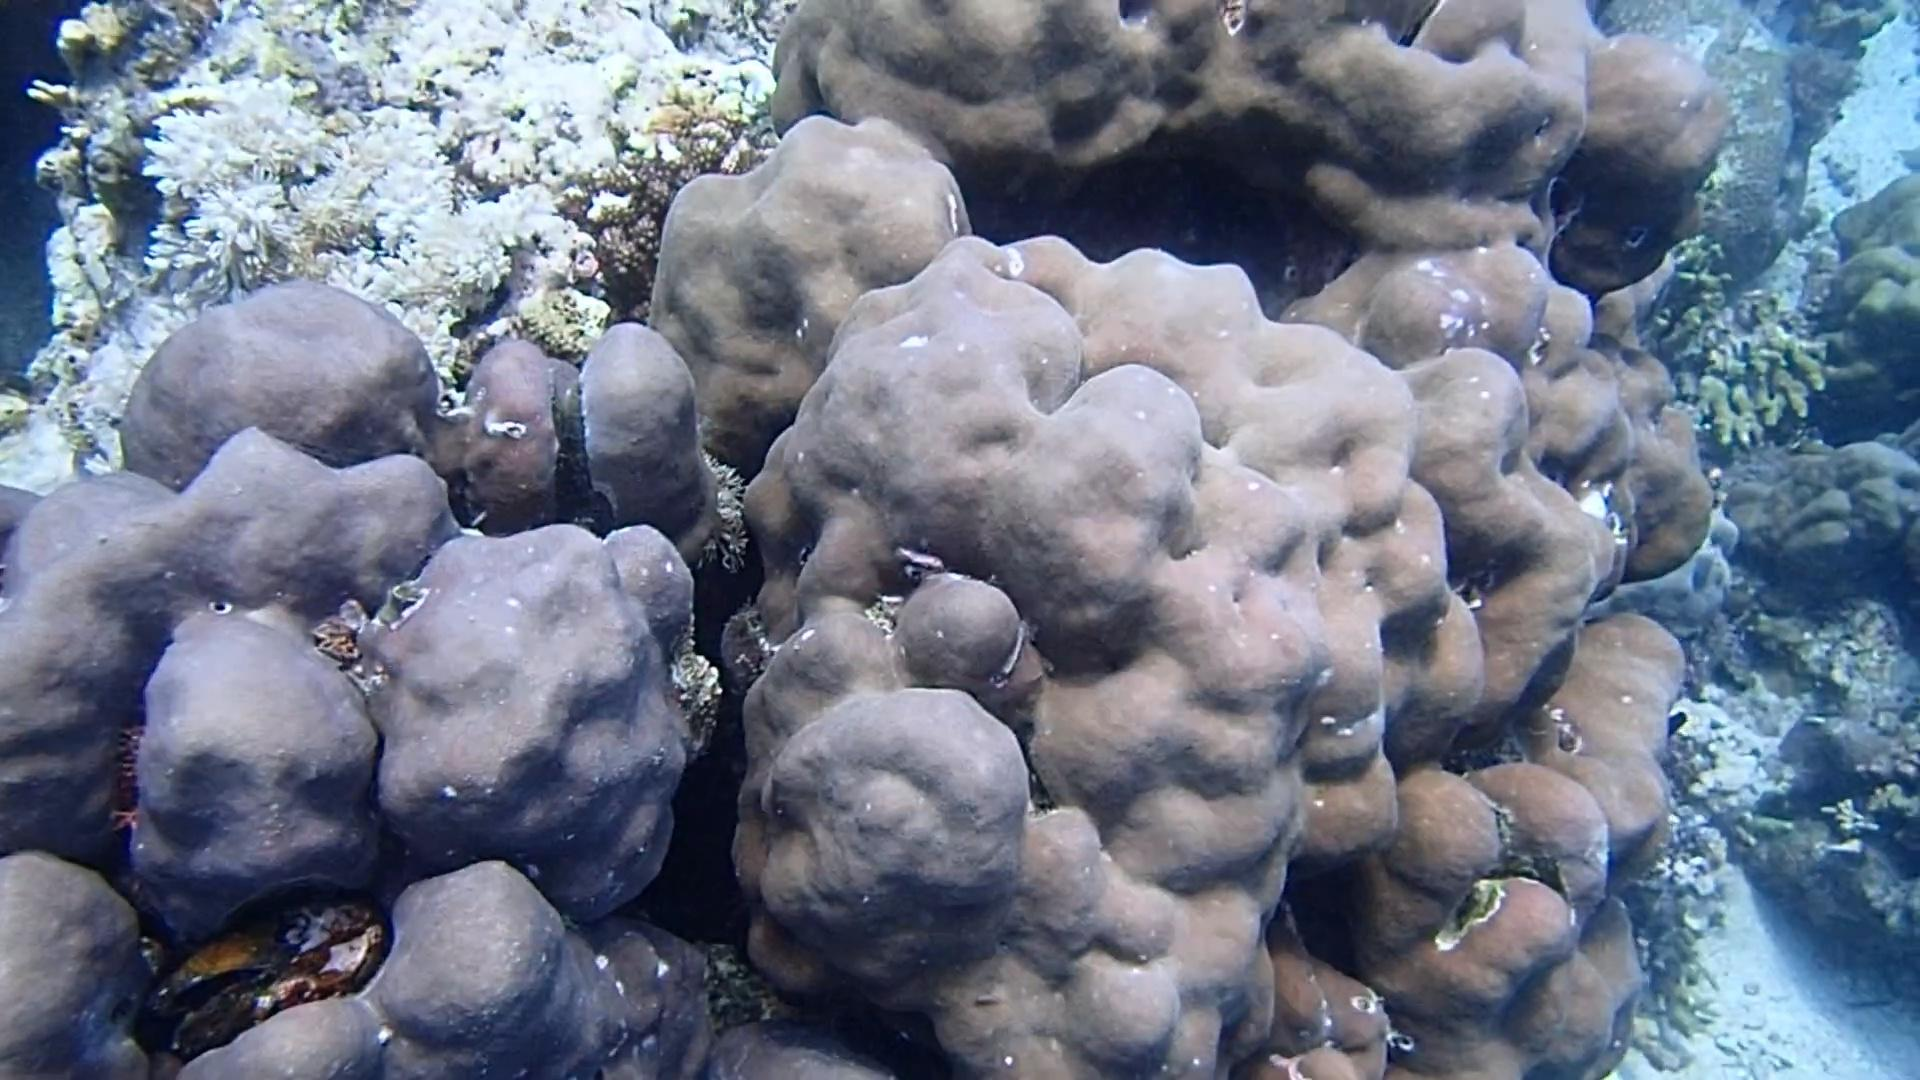Dark Fish: (1667, 694, 1688, 749)
